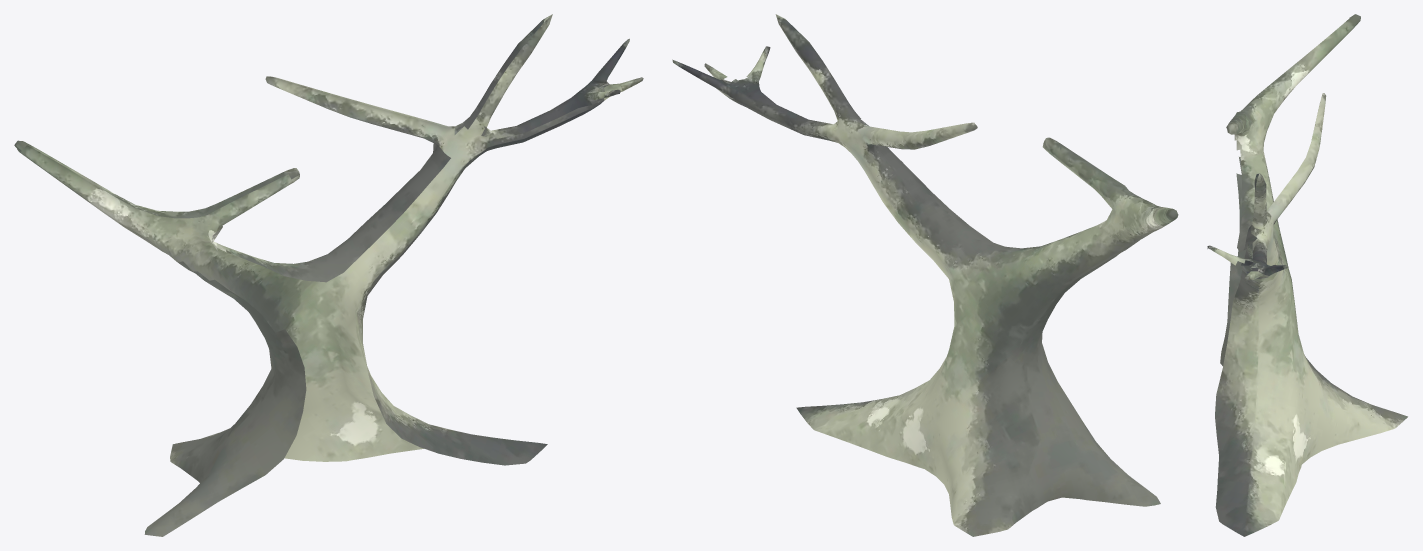
The model's file is Tree.glb.
3 views of the same model, side by side, from view 1: azimuth 30°, elevation 25°; view 2: azimuth 150°, elevation 25°; view 3: azimuth 270°, elevation 25° (orthographic). The views are drawn at different scales.
Visible parts, largest first — view 1: Retopo_Vert; view 2: Retopo_Vert; view 3: Retopo_Vert.
Boxes of the visible parts, x1,y1,x2,y2 form: Retopo_Vert: (14,14,643,536); Retopo_Vert: (672,14,1178,536); Retopo_Vert: (1207,14,1407,536).
Bounding box in the file's own units: 12.95 × 9.04 × 4.47.
Materials: 1 (1 with a texture image).
